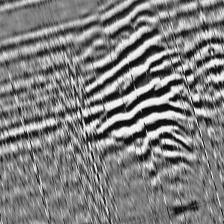cavities: (86, 20, 194, 170)
